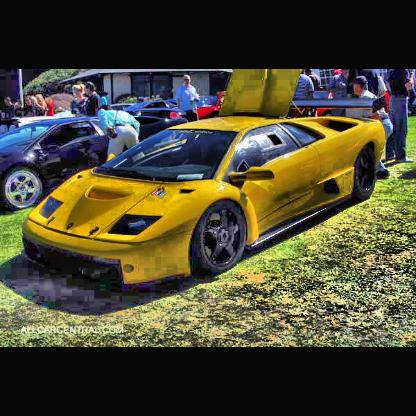Lamborghini Diablo Coupe 2001: (20, 113, 388, 291)
